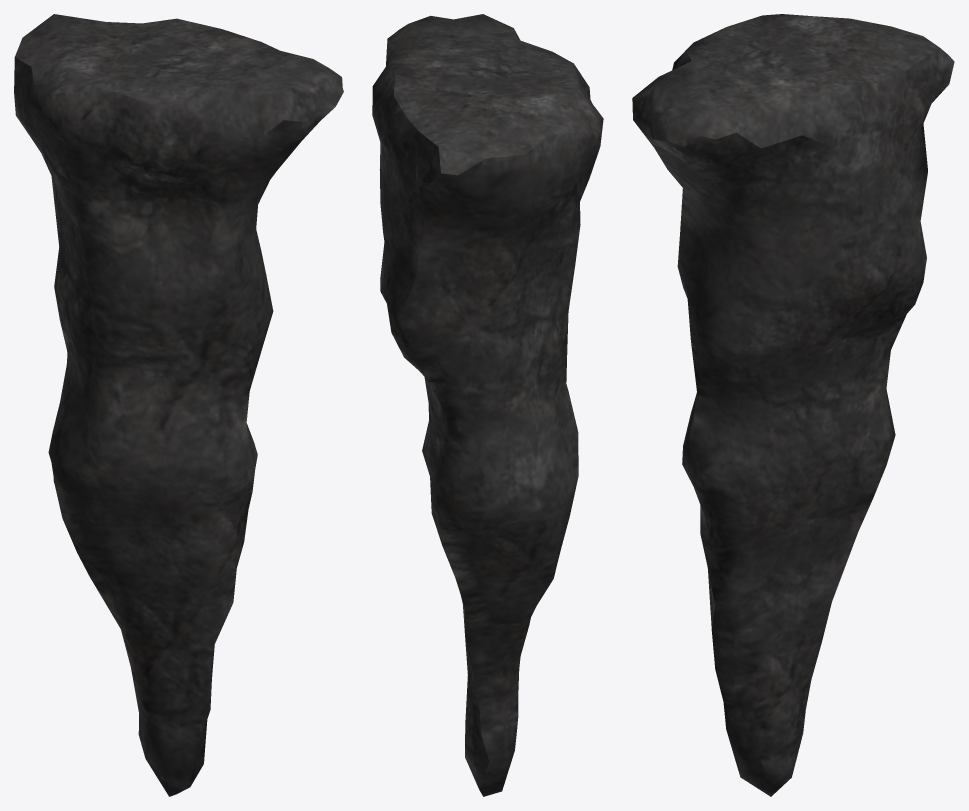
File: MedTop.fbx
3 views of the same model, side by side, from view 1: azimuth 30°, elevation 25°; view 2: azimuth 150°, elevation 25°; view 3: azimuth 270°, elevation 25° (orthographic).
Visible parts, largest first — view 1: MedTop; view 2: MedTop; view 3: MedTop.
Boxes of the visible parts, <box> form: MedTop: <box>14,14,343,796</box>; MedTop: <box>372,14,603,796</box>; MedTop: <box>632,14,954,796</box>.
Bounding box in the file's own units: 73.33 × 206 × 81.6.
Materials: 1 (1 with a texture image).
